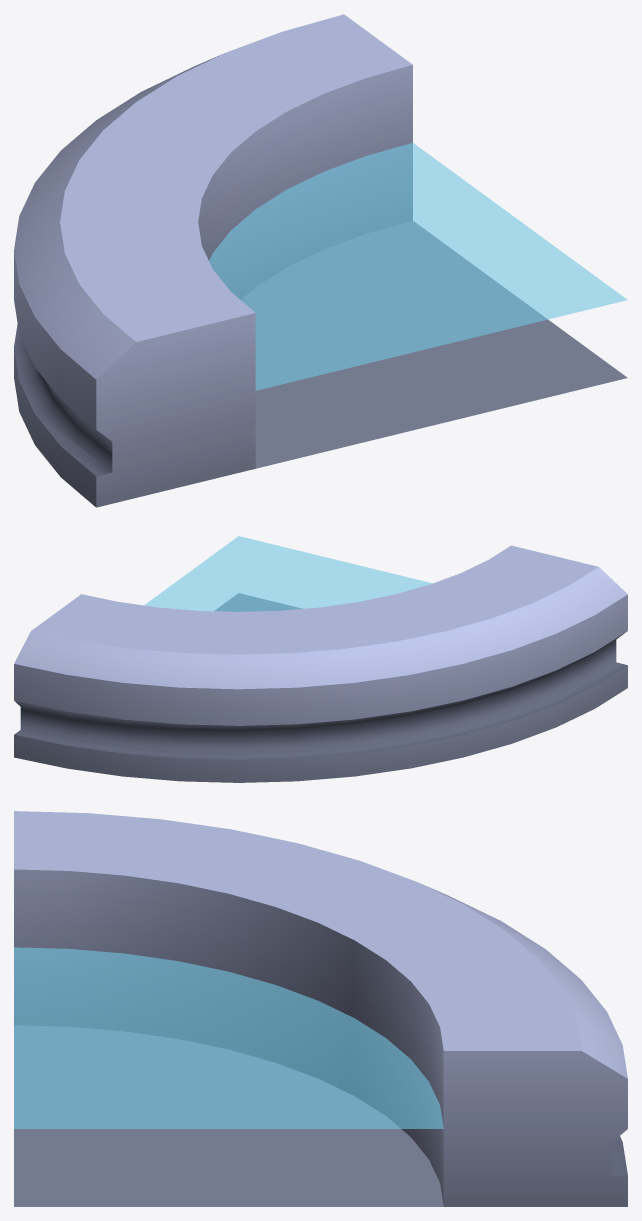
File: fountain-curved.glb
3 renders of one model, top to bottom at view 1: azimuth 30°, elevation 25°; view 2: azimuth 150°, elevation 25°; view 3: azimuth 270°, elevation 25°, orthographic. The views are drawn at different scales.
Visible parts, largest first — view 1: fountain-curved, (%ignore); view 2: fountain-curved, (%ignore); view 3: fountain-curved, (%ignore).
Boxes of the visible parts, x1=… form: fountain-curved: x1=14, y1=14, x2=627, y2=507; (%ignore): x1=209, y1=143, x2=627, y2=390; fountain-curved: x1=14, y1=545, x2=627, y2=782; (%ignore): x1=144, y1=536, x2=432, y2=611; fountain-curved: x1=14, y1=811, x2=627, y2=1206; (%ignore): x1=14, y1=947, x2=443, y2=1128.
Bounding box in the file's own units: 1 × 0.28 × 1.
Materials: 2 (1 with a texture image).
